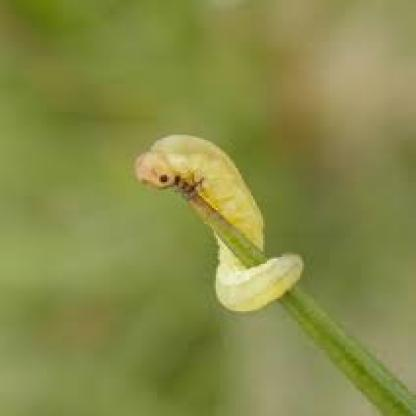sawfly: (126, 128, 310, 317)
